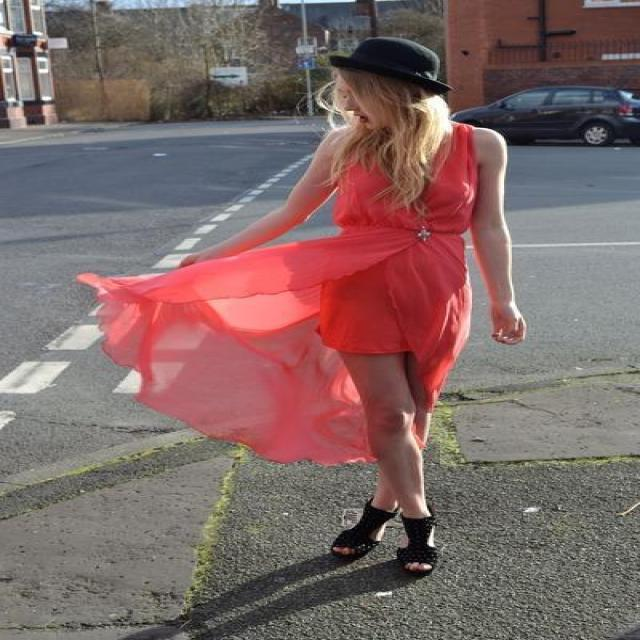dress: (77, 141, 478, 465)
hat: (330, 40, 451, 97)
shoe: (330, 495, 440, 575)
